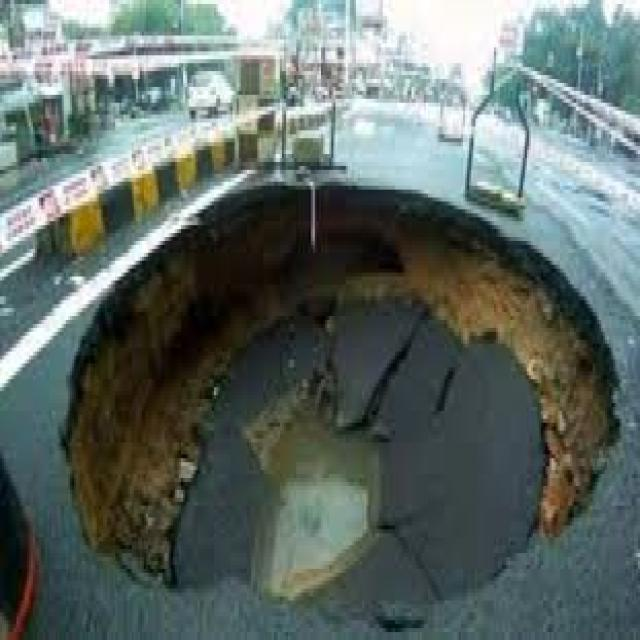Potholes: (70, 190, 615, 612)
